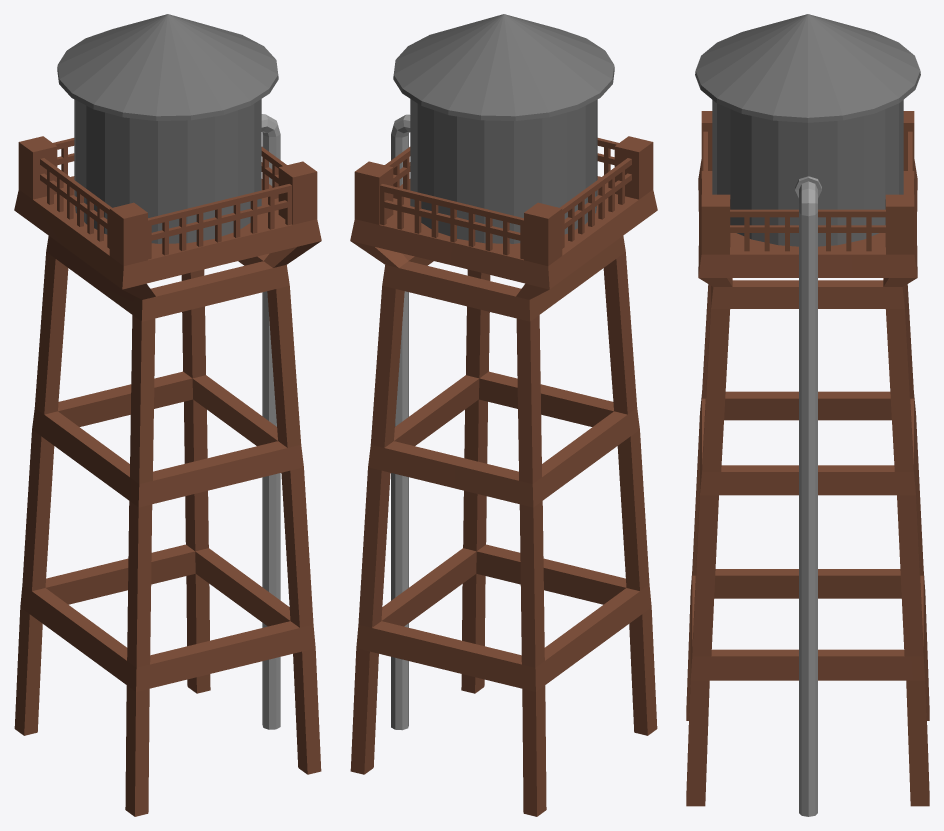
Rendered from WaterTower.glb.
3 views of the same model, side by side, from view 1: azimuth 30°, elevation 25°; view 2: azimuth 150°, elevation 25°; view 3: azimuth 270°, elevation 25° (orthographic).
Visible parts, largest first — view 1: Brown, DarkGrey, Grey; view 2: Brown, DarkGrey, Grey; view 3: Brown, DarkGrey, Grey.
Boxes of the visible parts, bbox=[...] form: Brown: bbox=[14, 136, 321, 816]; DarkGrey: bbox=[57, 14, 278, 243]; Grey: bbox=[261, 114, 280, 729]; Brown: bbox=[350, 136, 657, 816]; DarkGrey: bbox=[393, 14, 614, 243]; Grey: bbox=[391, 114, 410, 730]; Brown: bbox=[686, 111, 929, 806]; DarkGrey: bbox=[695, 14, 920, 246]; Grey: bbox=[795, 176, 821, 816].
Size of the model in its own units: 2.53 by 8.43 by 2.49.
